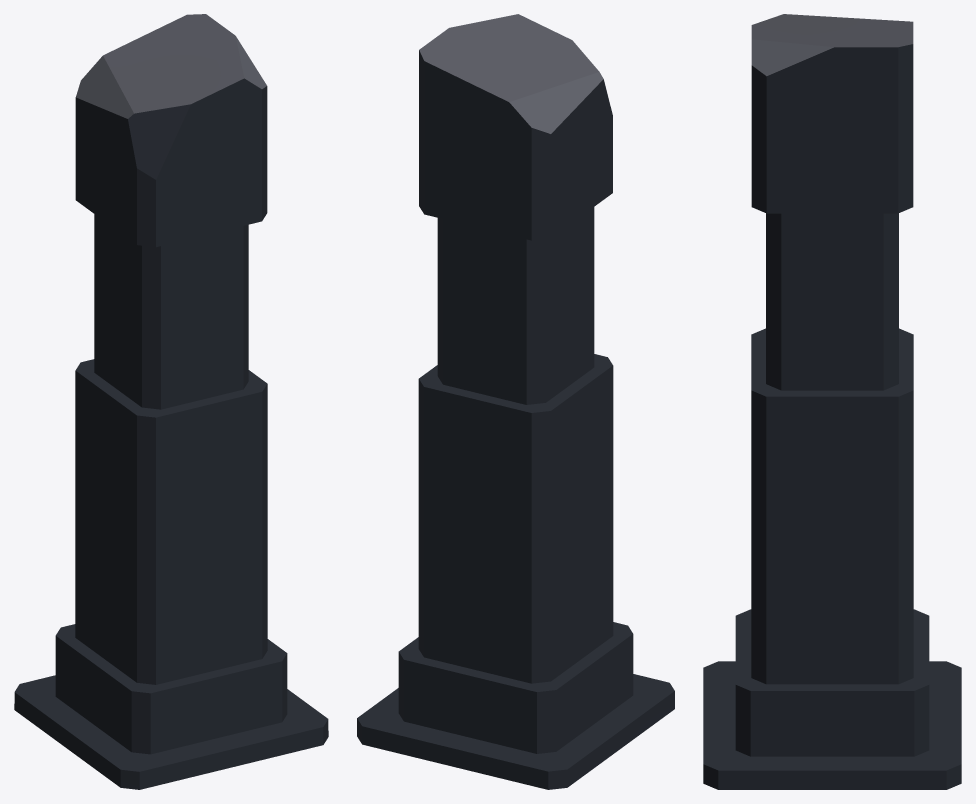
Rendered from pillier coupé.fbx.
3 renders of one model, left to right at view 1: azimuth 30°, elevation 25°; view 2: azimuth 150°, elevation 25°; view 3: azimuth 270°, elevation 25°, orthographic. The views are drawn at different scales.
Parts seen in each view (by area): view 1: Pillier Coupé; view 2: Pillier Coupé; view 3: Pillier Coupé.
Boxes of the visible parts, x1,y1,x2,y2 form: Pillier Coupé: (14, 14, 328, 789); Pillier Coupé: (357, 14, 674, 789); Pillier Coupé: (703, 14, 961, 789).
Bounding box in the file's own units: 171 × 529 × 171.
